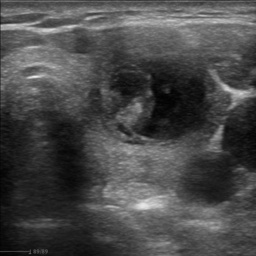mass: (105, 50, 210, 144)
